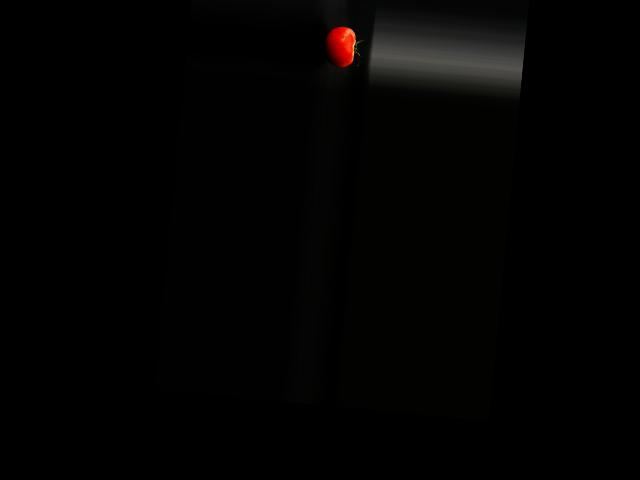tomato: (322, 24, 356, 68)
